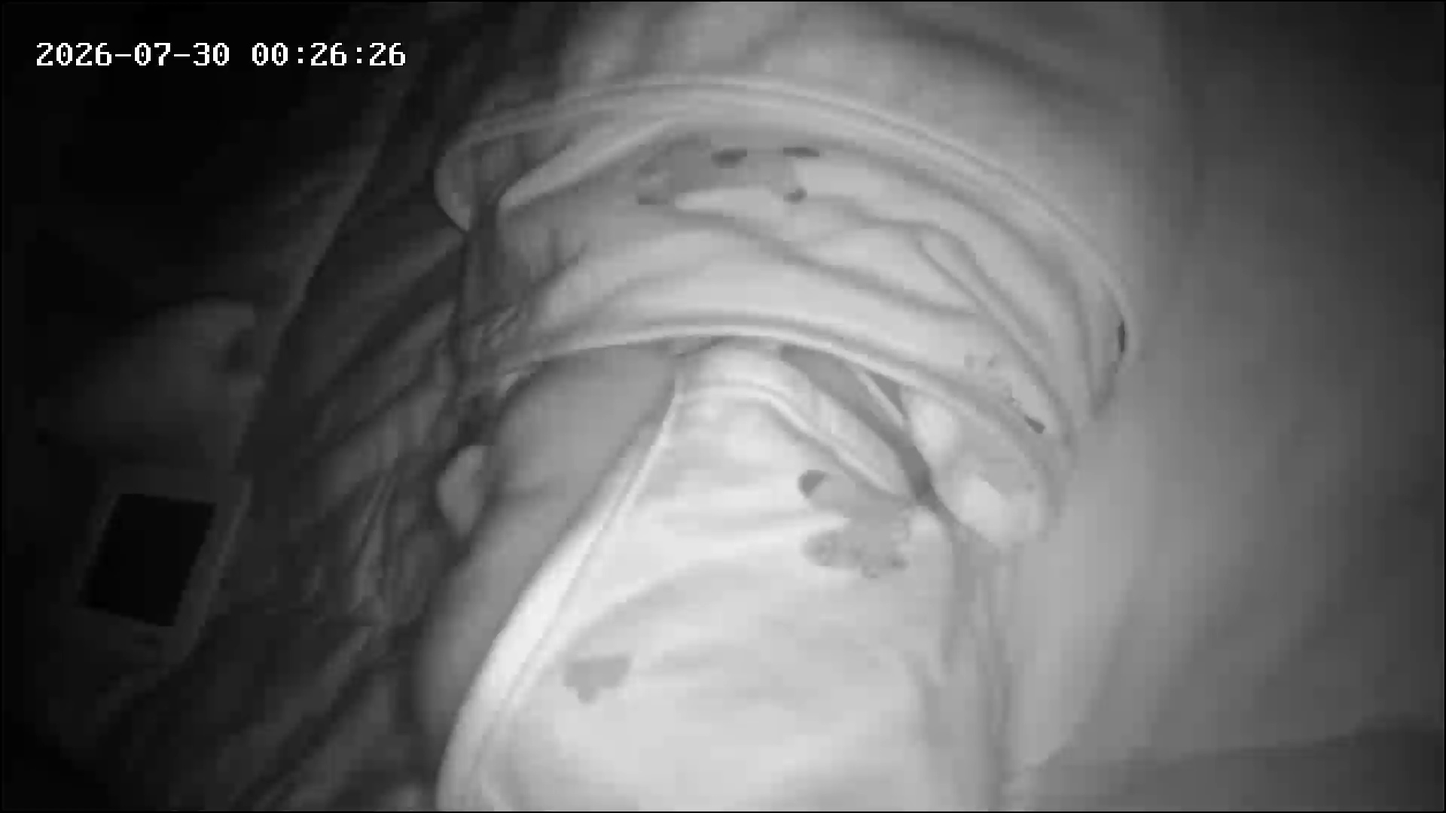baby: (364, 2, 1236, 813)
baby_face: (401, 324, 1012, 812)
